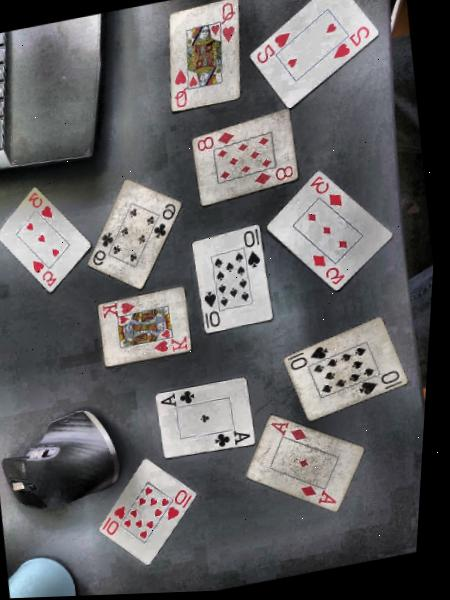10C: (159, 476, 207, 529), (93, 498, 129, 545)
10P: (351, 363, 409, 405), (277, 336, 330, 378), (237, 219, 269, 272), (196, 285, 223, 333)
2C: (324, 18, 383, 71), (243, 22, 293, 70)
3C: (20, 250, 65, 296), (20, 185, 60, 223)
3D: (298, 240, 355, 295), (303, 167, 354, 213)
6T: (148, 191, 187, 244), (83, 225, 118, 274)
8D: (184, 123, 235, 154), (250, 161, 301, 187)
AD: (289, 476, 348, 514), (261, 410, 314, 446)
AT: (207, 423, 256, 452), (153, 383, 195, 409)
QC: (161, 64, 193, 115), (213, 0, 246, 46)
